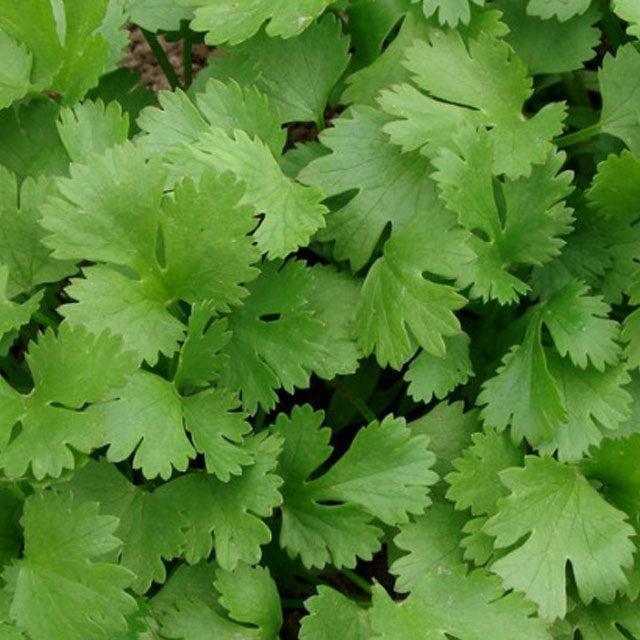cilantro: (12, 0, 640, 482)
